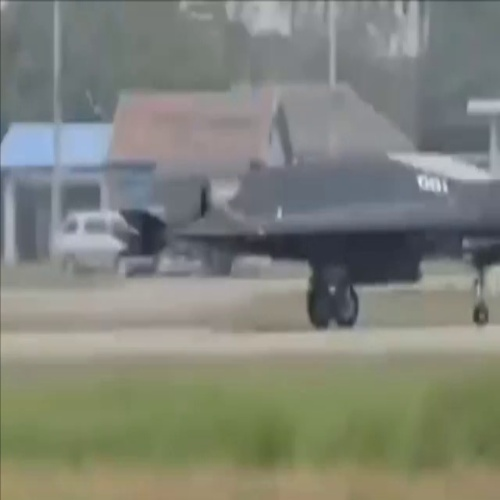uav1024: (171, 133, 495, 335)
